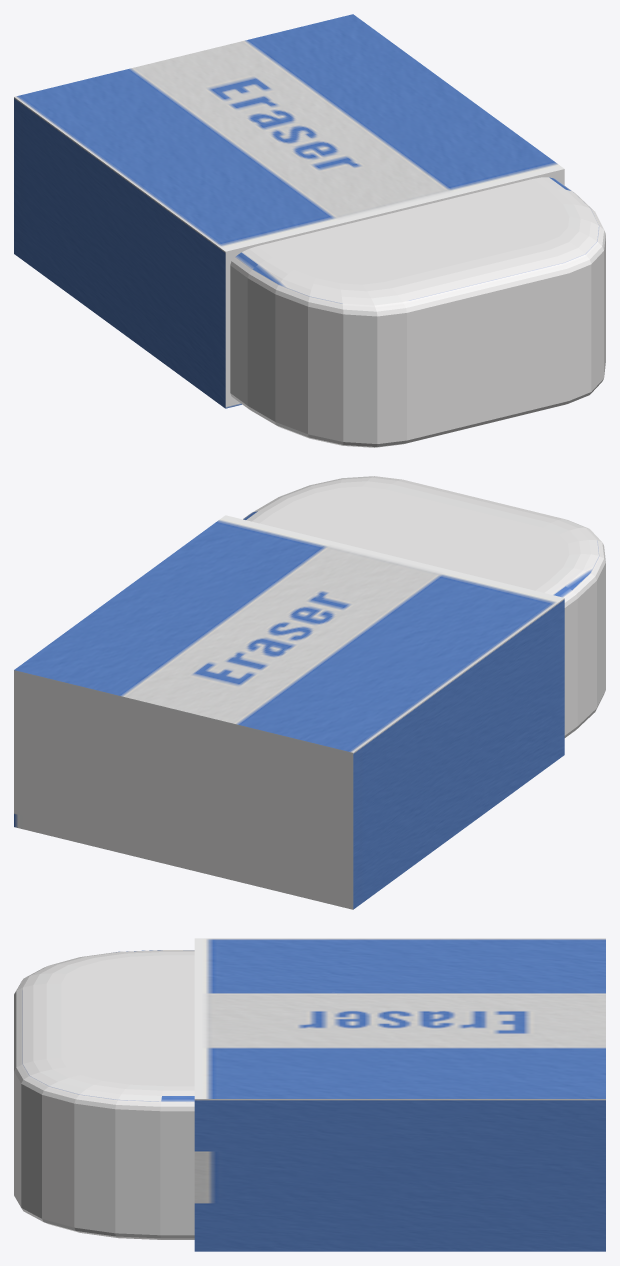
Rendered from eraser.fbx.
The picture shows the model from 3 angles, top to bottom: view 1: azimuth 30°, elevation 25°; view 2: azimuth 150°, elevation 25°; view 3: azimuth 270°, elevation 25°; orthographic projection. The views are drawn at different scales.
Visible parts, largest first — view 1: Cube.001; view 2: Cube.001; view 3: Cube.001.
Part boxes in pixels (x1,y1,x2,y2): Cube.001: [14, 14, 605, 447]; Cube.001: [14, 476, 605, 909]; Cube.001: [14, 938, 605, 1251].
Bounding box in the file's own units: 150 × 66.29 × 233.
